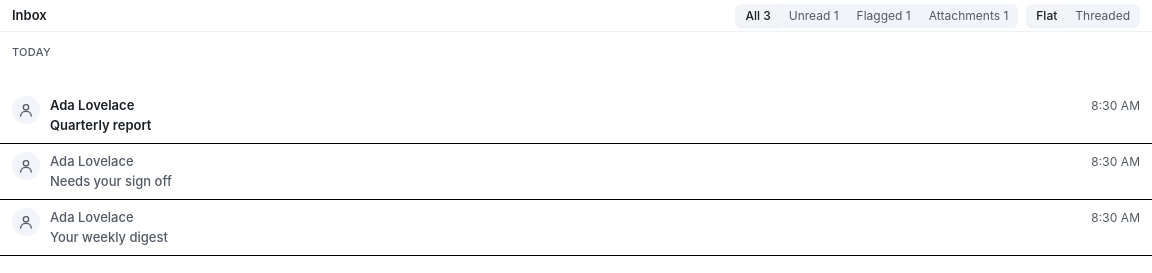
Test: the list filter › filters the rows to the chosen tab
The image size is (1152, 273).
Click the button "Flagged 1" at (884, 16), box 849,6 -> 919,26
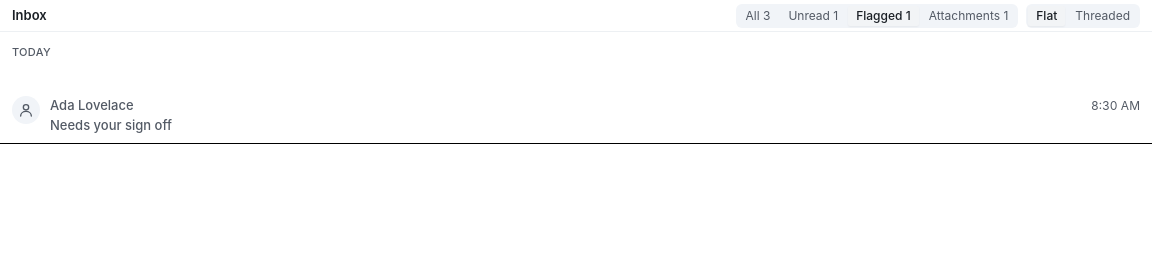
expect the number of options is 1: met, box 0,88 -> 1151,144
expect the text "Needs your sign off" is shown: met, box 50,116 -> 172,135
expect the option "Quarterly report" is gone: met
Click the button "Attachments 1" at (968, 16), box 921,6 -> 1016,26
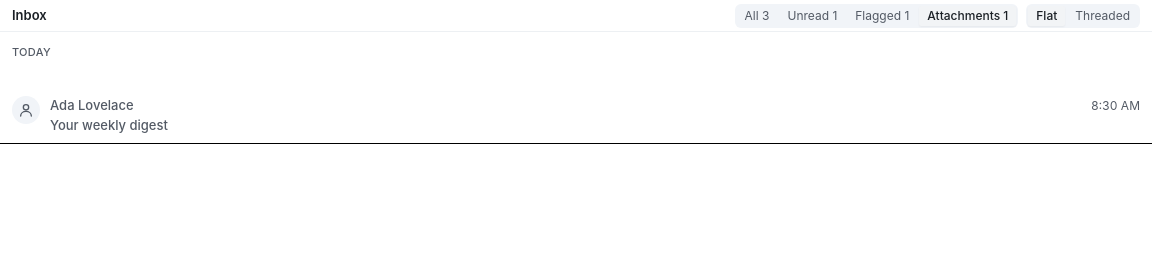
expect the number of options is 1: met, box 0,88 -> 1151,144
expect the text "Your weekly digest" is shown: met, box 50,116 -> 168,135
Click the button "Unread 1" at (812, 16), box 780,6 -> 845,26
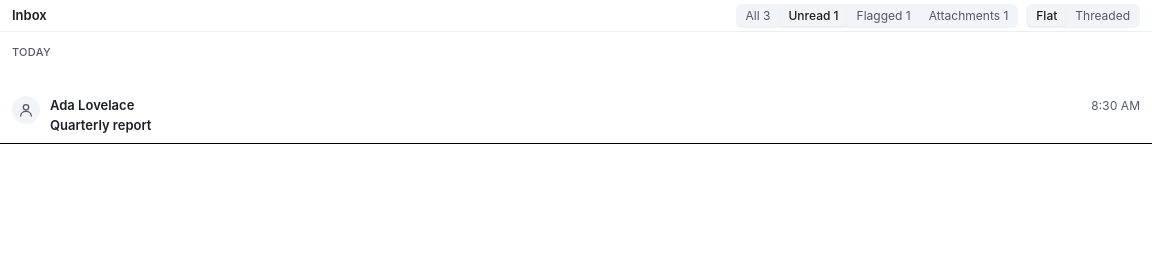
expect the number of options is 1: met, box 0,88 -> 1151,144
expect the text "Quarterly report" is shown: met, box 50,116 -> 151,135
Click the button "All 3" at (758, 16), box 738,6 -> 778,26
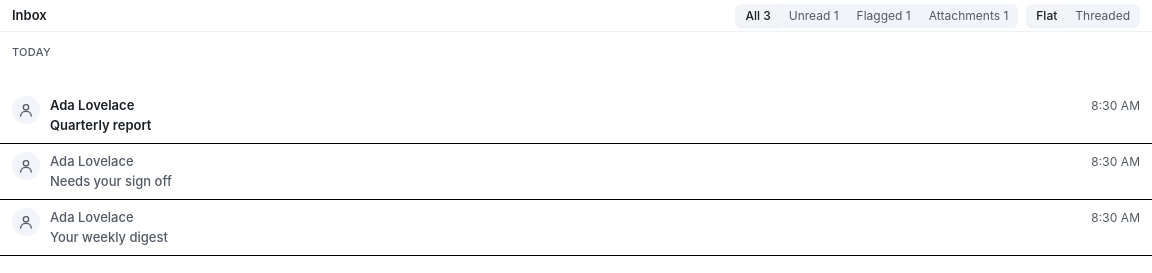
expect the number of options is 3: met, box 0,88 -> 1151,144; 0,144 -> 1151,200; 0,200 -> 1151,256
